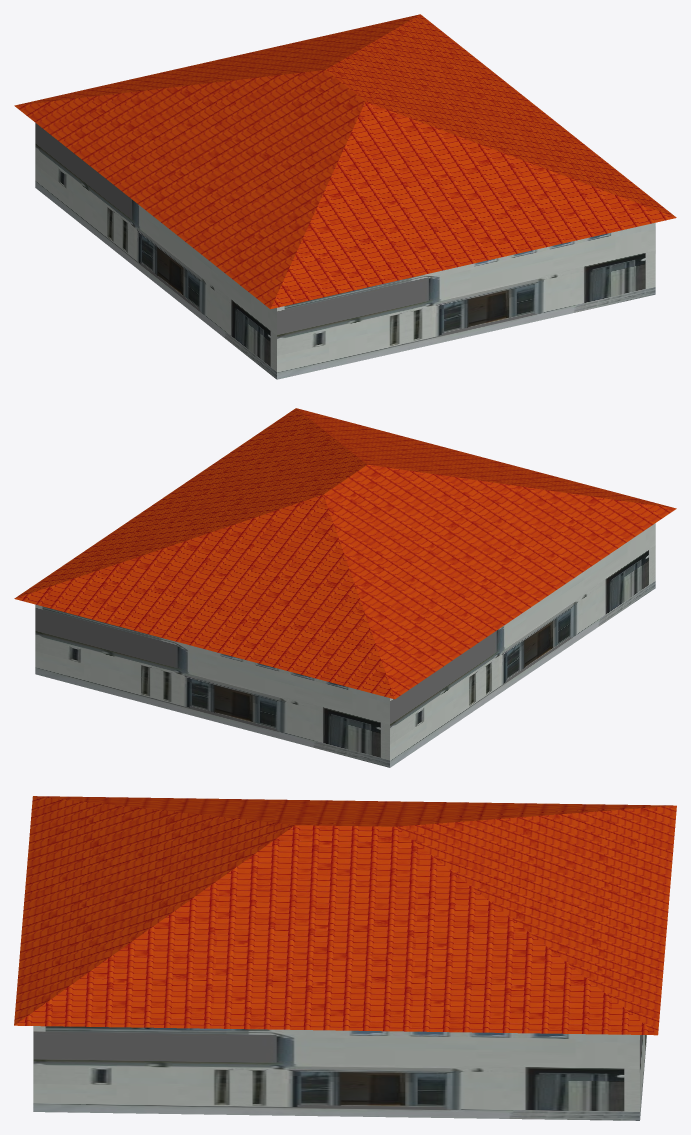
3 views of the same model, one above another, from view 1: azimuth 30°, elevation 25°; view 2: azimuth 150°, elevation 25°; view 3: azimuth 270°, elevation 25° (orthographic). The views are drawn at different scales.
Visible parts, largest first — view 1: CityEngineMaterial_12_m, CityEngineMaterial_11_m; view 2: CityEngineMaterial_12_m, CityEngineMaterial_11_m; view 3: CityEngineMaterial_12_m, CityEngineMaterial_11_m.
Part boxes in pixels (x1,y1,x2,y2): CityEngineMaterial_12_m: (14,14,676,309); CityEngineMaterial_11_m: (35,123,655,379); CityEngineMaterial_12_m: (14,408,676,699); CityEngineMaterial_11_m: (35,523,655,767); CityEngineMaterial_12_m: (14,796,676,1035); CityEngineMaterial_11_m: (33,1026,646,1120).
Bounding box in the file's own units: 28.43 × 10.18 × 33.32.
